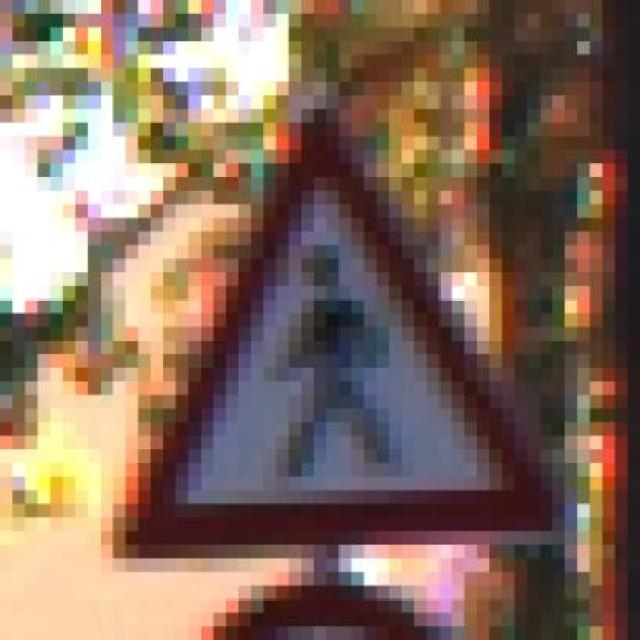Pedestrian Crossing: (112, 103, 565, 566)
